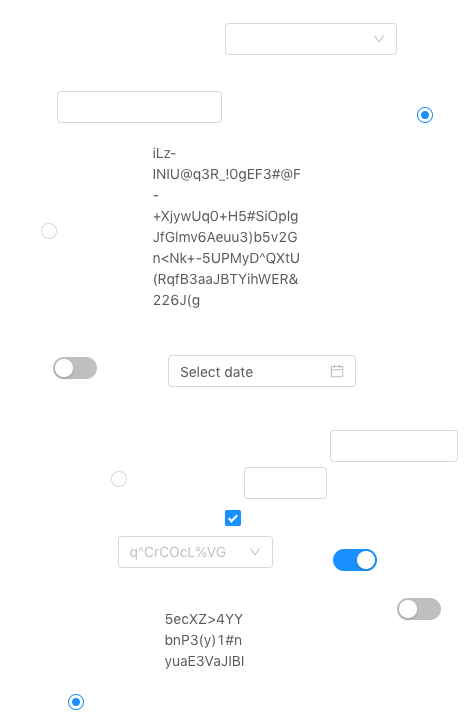Checkbox: (225, 507, 241, 528)
DatePicker: (168, 355, 356, 387)
Input: (57, 91, 222, 123), (330, 430, 458, 462), (244, 467, 327, 499)
Radio: (41, 220, 57, 240), (111, 468, 127, 488), (68, 691, 84, 711), (417, 104, 433, 124)
Select: (225, 23, 397, 55), (118, 536, 273, 568)
Switch: (333, 548, 377, 572), (53, 356, 97, 380), (397, 597, 441, 621)
Text: (153, 142, 304, 313), (165, 608, 246, 673)
